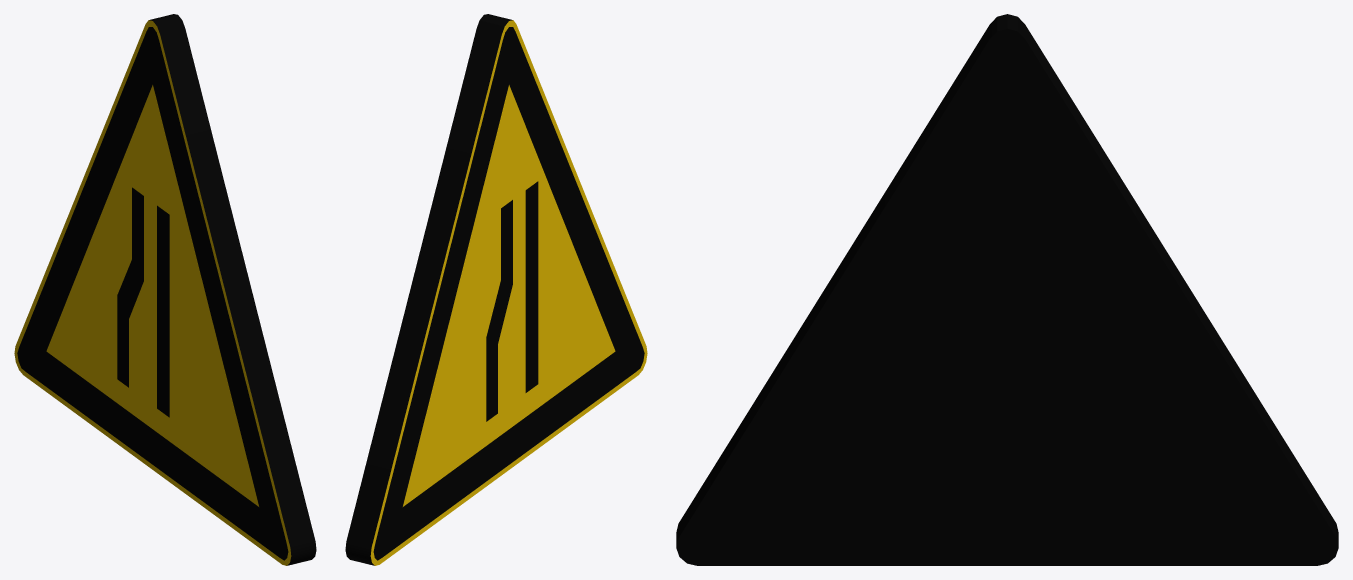
The model's file is Narrow_Road_Left.fbx.
The picture shows the model from 3 angles, left to right: view 1: azimuth 30°, elevation 25°; view 2: azimuth 150°, elevation 25°; view 3: azimuth 270°, elevation 25°; orthographic projection. The views are drawn at different scales.
Visible parts, largest first — view 1: Narrow_Road_Left; view 2: Narrow_Road_Left; view 3: Narrow_Road_Left.
Boxes of the visible parts, x1,y1,x2,y2 form: Narrow_Road_Left: (14,14,316,565); Narrow_Road_Left: (345,14,647,565); Narrow_Road_Left: (676,14,1338,565).
Bounding box in the file's own units: 0.075 × 1.02 × 1.14.
